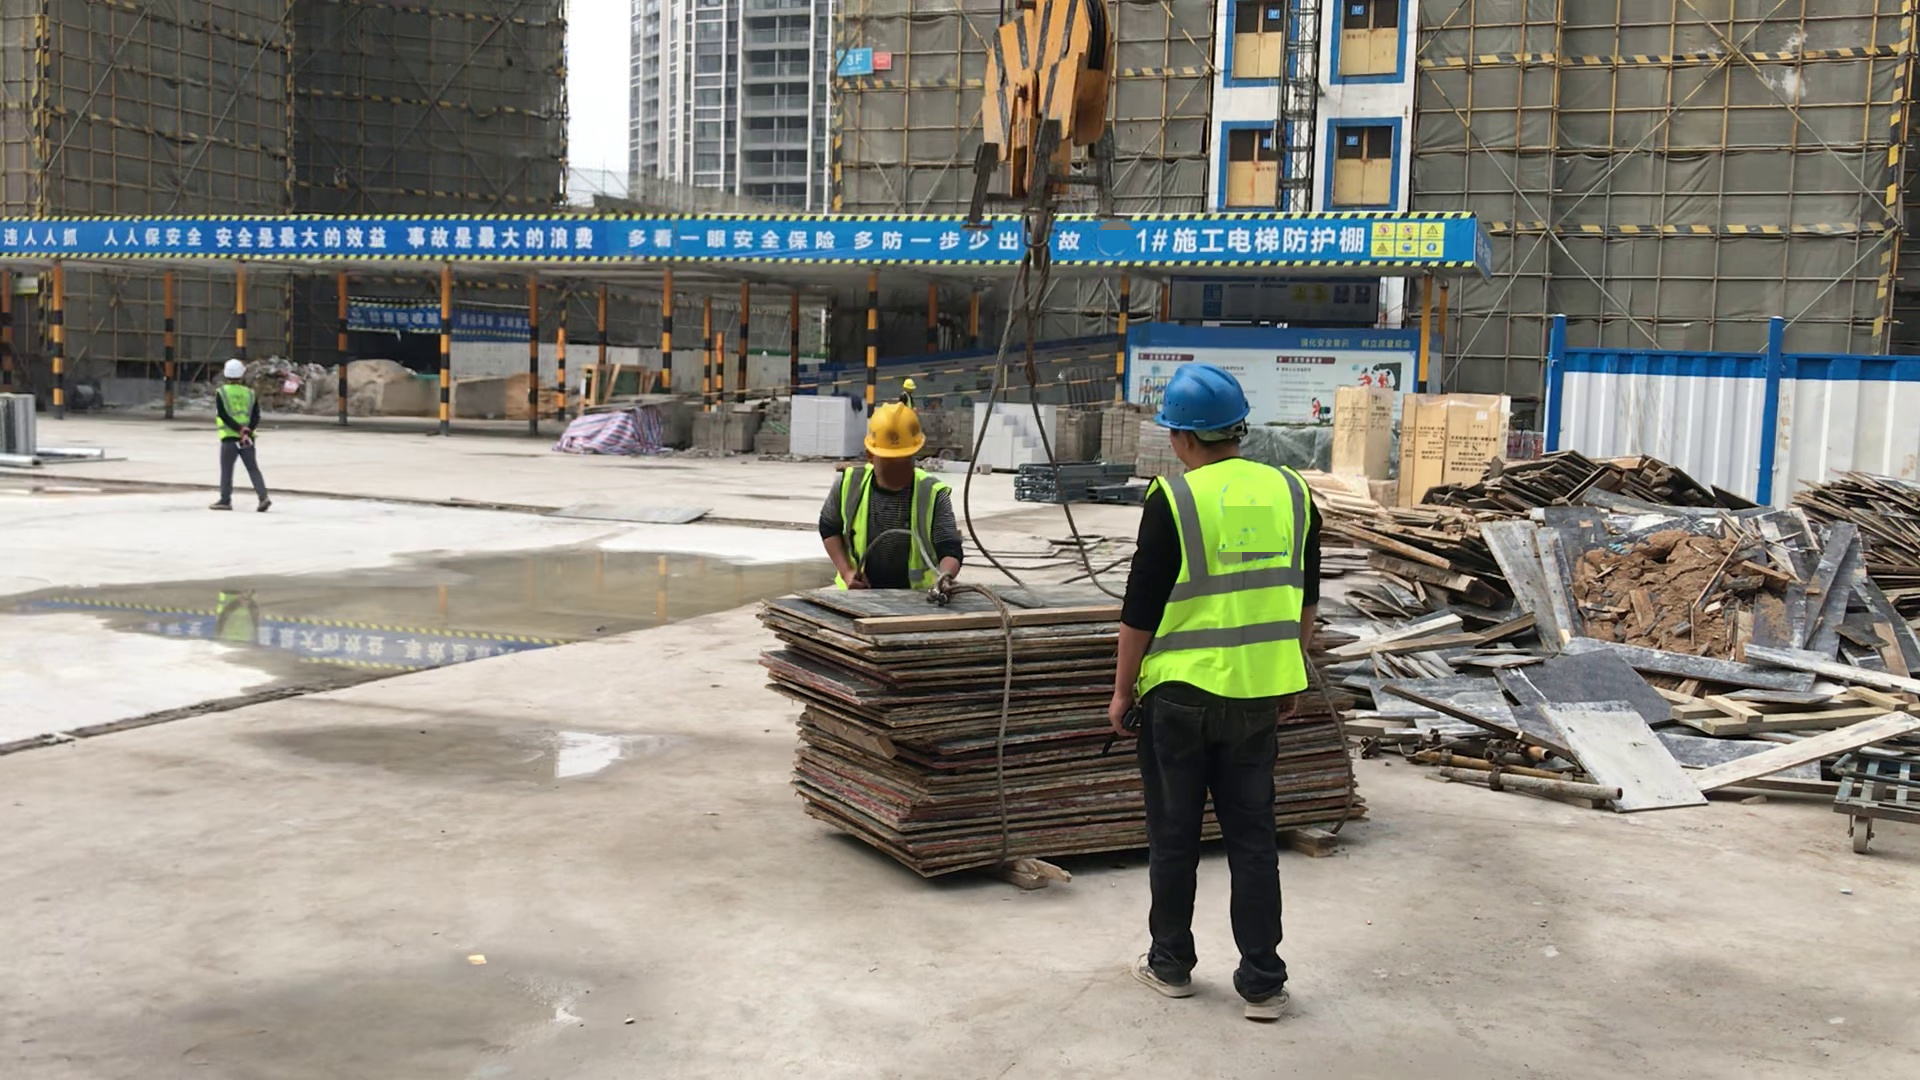board: (750, 576, 1372, 883)
brick: (975, 401, 1053, 468), (791, 396, 863, 455)
helmet: (1155, 362, 1254, 436), (865, 402, 925, 457), (224, 360, 244, 380), (901, 378, 916, 390)
hook: (980, 12, 1137, 272)
person: (1112, 363, 1326, 1026), (825, 400, 969, 591), (203, 360, 274, 509), (895, 376, 919, 402)
slogan: (407, 225, 1076, 257), (3, 219, 396, 250), (1366, 222, 1447, 257), (458, 311, 532, 333)
vest: (1137, 462, 1313, 705), (840, 465, 944, 594), (217, 383, 255, 442)
